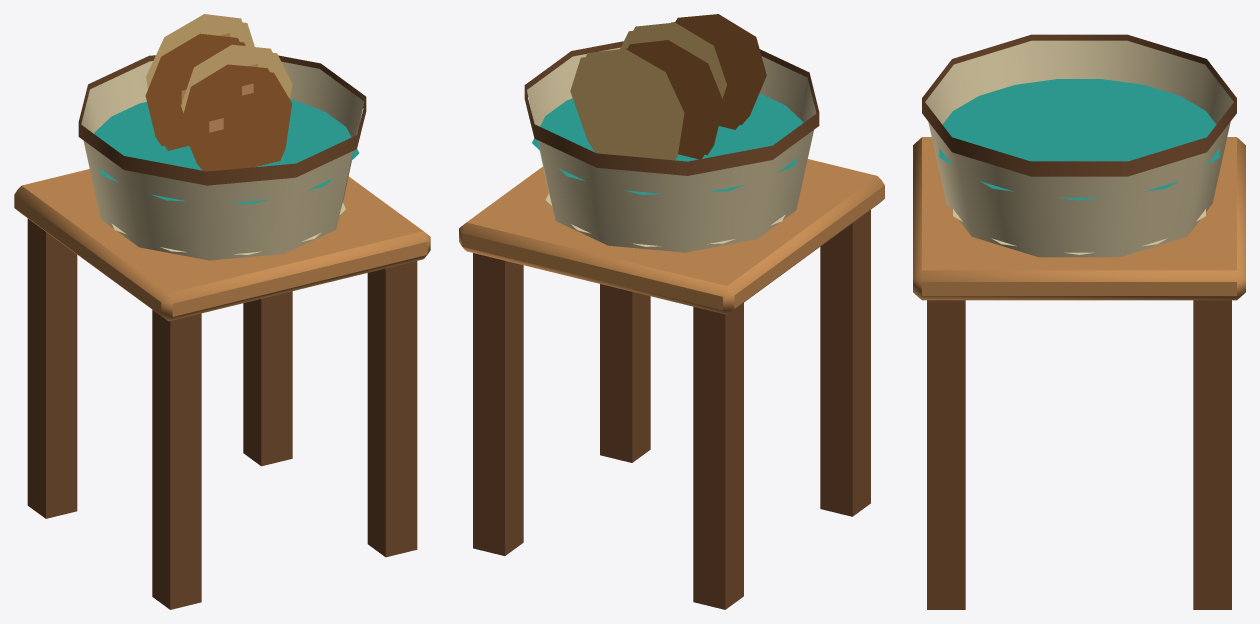
The model's file is prop_naan_basket.glb.
3 renders of one model, left to right at view 1: azimuth 30°, elevation 25°; view 2: azimuth 150°, elevation 25°; view 3: azimuth 270°, elevation 25°, orthographic. The views are drawn at different scales.
Visible parts, largest first — view 1: prop_naan_basket; view 2: prop_naan_basket; view 3: prop_naan_basket.
Boxes of the visible parts, x1,y1,x2,y2 form: prop_naan_basket: [14, 14, 430, 609]; prop_naan_basket: [459, 14, 884, 609]; prop_naan_basket: [913, 34, 1245, 609].
Bounding box in the file's own units: 0.3 × 0.515 × 0.3.
Materials: 1 (1 with a texture image).
